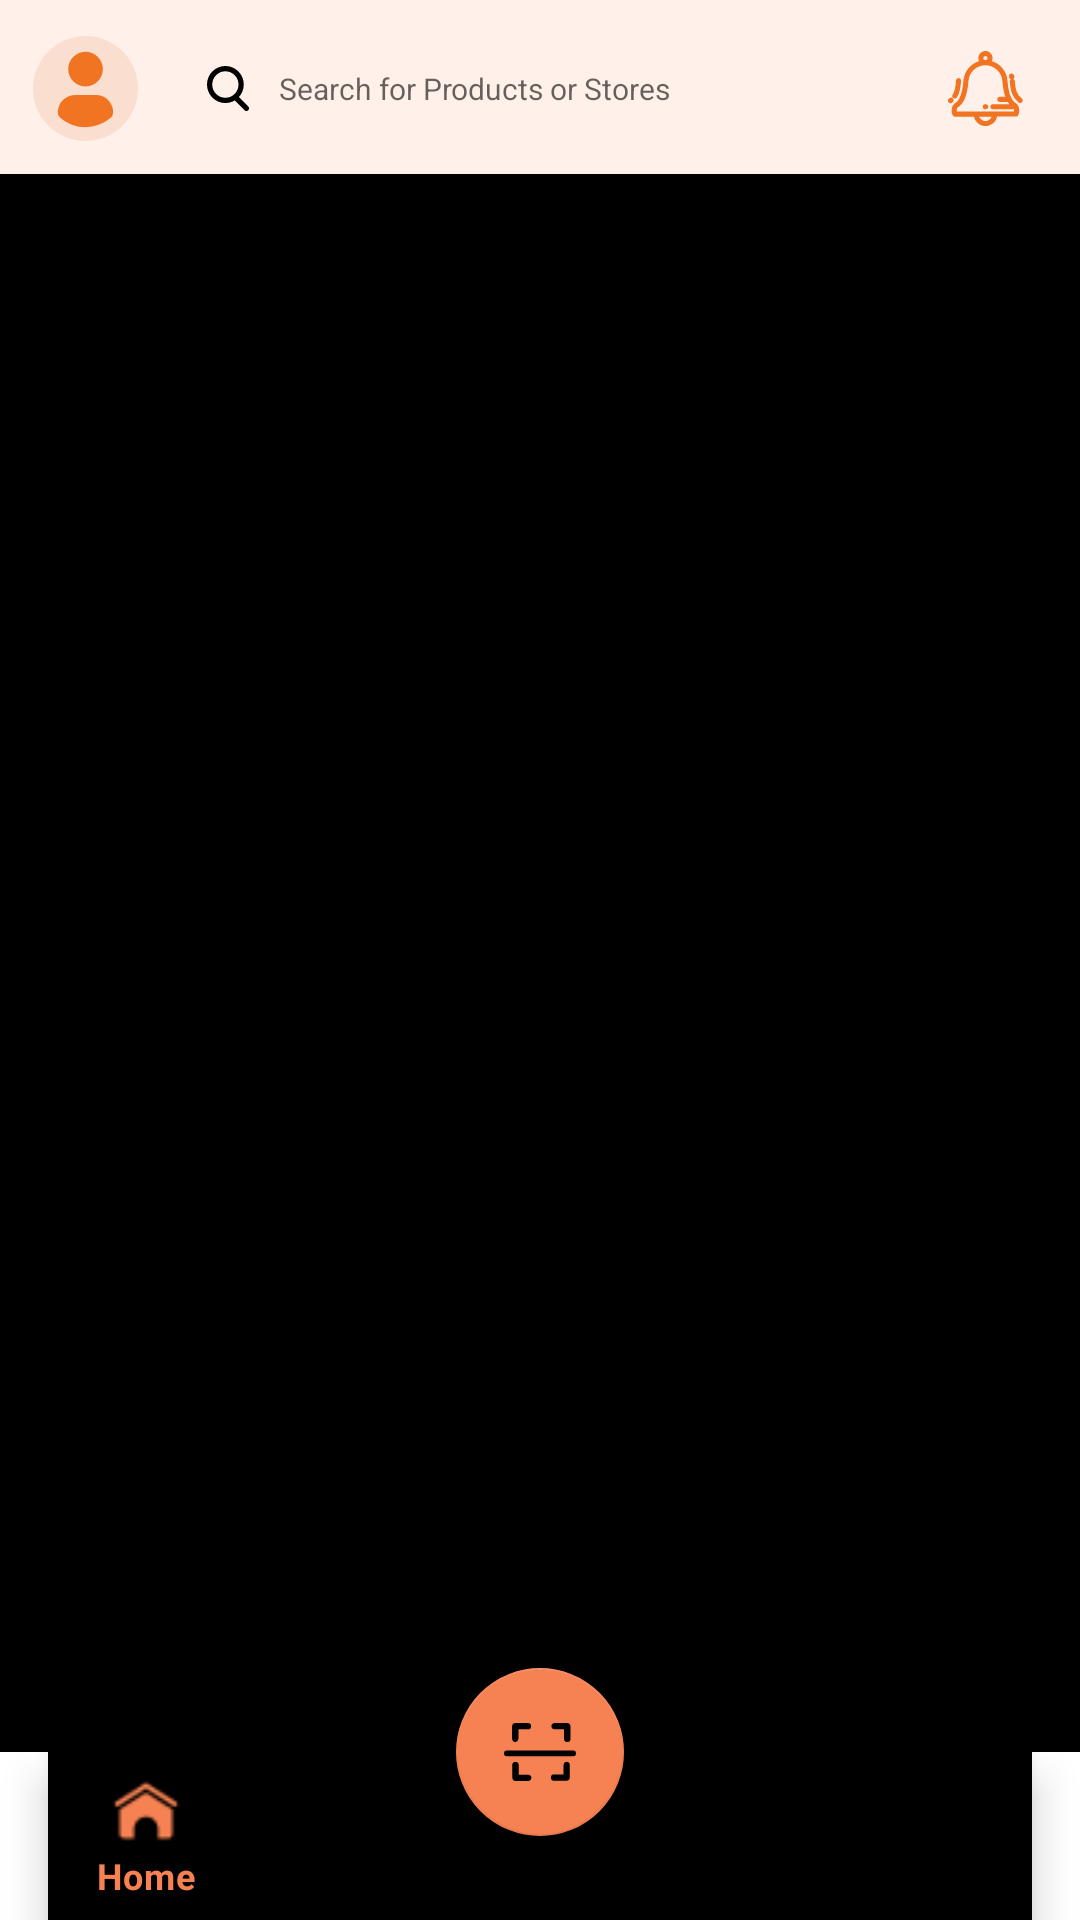

Named icons in this screenshot (1080 × 1920) and their bounding boxes, (x1, y1, x2, y2):
notification: (948, 51, 1023, 126)
profile: (33, 36, 138, 141)
scan: (456, 1668, 624, 1836)
